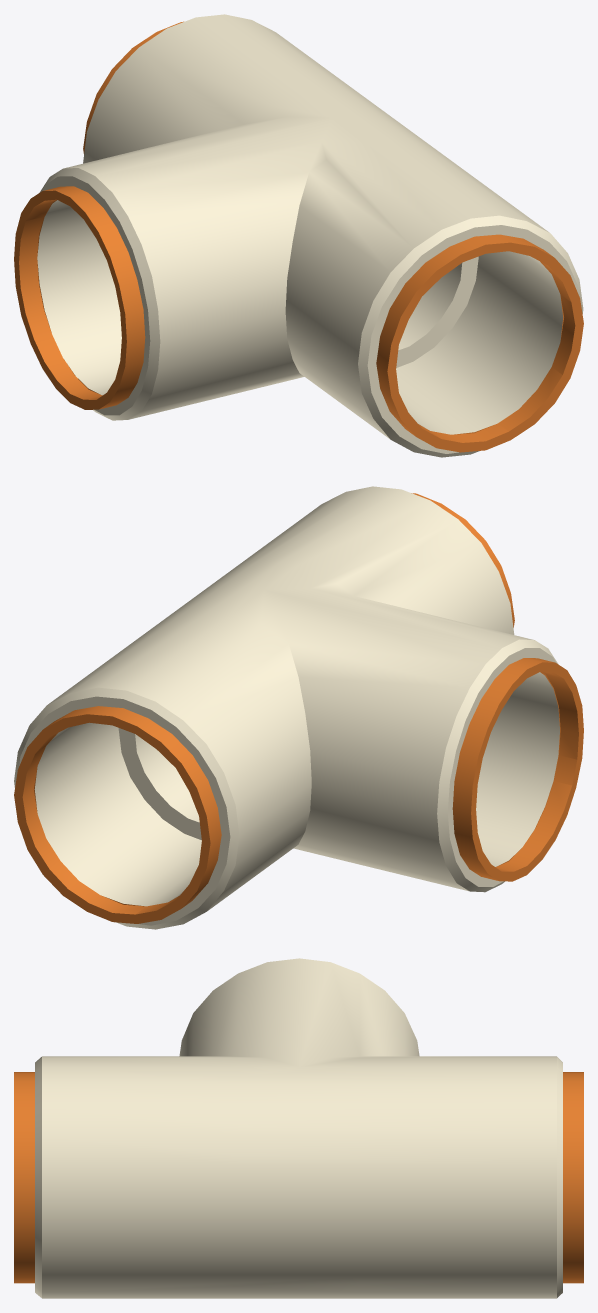
File: pipes_supply__water_heater__c3f5c2f9.glb
3 renders of one model, top to bottom at view 1: azimuth 30°, elevation 25°; view 2: azimuth 150°, elevation 25°; view 3: azimuth 270°, elevation 25°, orthographic. The views are drawn at different scales.
Visible parts, largest first — view 1: fit_tee_pipe_supply_cold_chase; view 2: fit_tee_pipe_supply_cold_chase; view 3: fit_tee_pipe_supply_cold_chase.
Boxes of the visible parts, x1=… form: fit_tee_pipe_supply_cold_chase: x1=14, y1=14, x2=583, y2=457; fit_tee_pipe_supply_cold_chase: x1=14, y1=486, x2=583, y2=929; fit_tee_pipe_supply_cold_chase: x1=14, y1=958, x2=583, y2=1298.
Bounding box in the file's own units: 0.0476 × 0.0286 × 0.0668.
